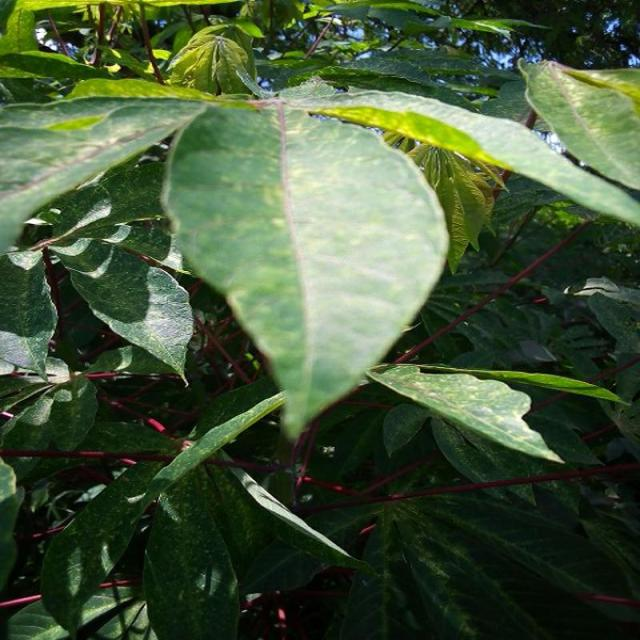cassava leaf: (161, 97, 451, 443), (518, 55, 640, 190)
